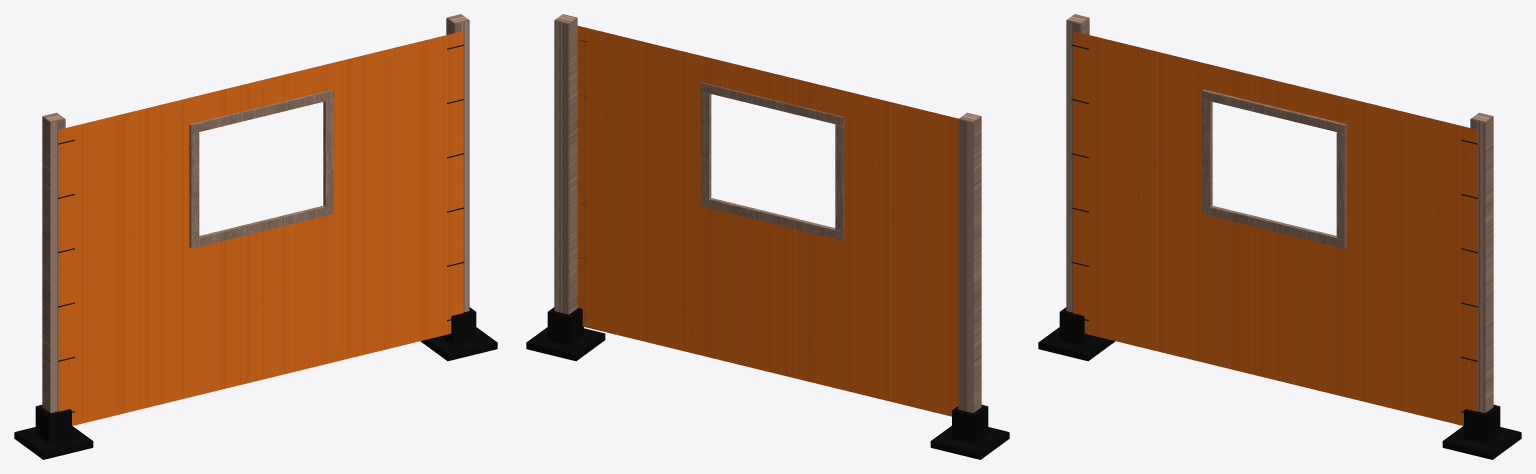
Rendered from obj_mesh_wall_window.glb.
The picture shows the model from 3 angles, left to right: view 1: azimuth 30°, elevation 25°; view 2: azimuth 150°, elevation 25°; view 3: azimuth 330°, elevation 25°; orthographic projection.
Parts seen in each view (by area): view 1: mesh, mesh_wall_window_body; view 2: mesh, mesh_wall_window_body; view 3: mesh, mesh_wall_window_body.
Part boxes in pixels (x1,y1,x2,y2): mesh: (58, 31, 462, 425); mesh_wall_window_body: (14, 14, 497, 459); mesh: (577, 26, 958, 416); mesh_wall_window_body: (526, 14, 1009, 459); mesh: (1073, 31, 1477, 425); mesh_wall_window_body: (1038, 14, 1521, 459).
Size of the model in its own units: 2.7 by 1.85 by 0.3.
3 materials, 2 textured.
